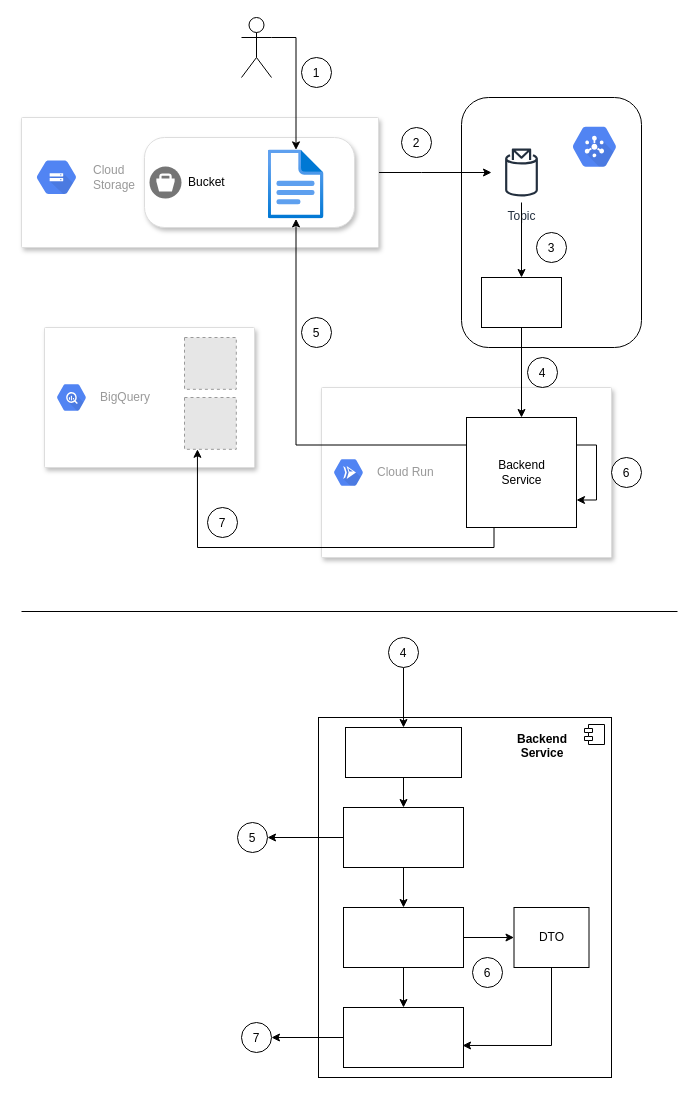
The diagram is 695 pixels wide and 1095 high, and some of its shapes have lost their labels. Grey dashed boxes stand in for pictures. Each missing label, with the centre of its shape:
Cloud Pub/Sub: (x=594, y=146)
DataExtractor: (x=403, y=837)
Loader: (x=403, y=1037)
REST POST endpoint: (x=403, y=752)
Subscription: (x=521, y=302)
Transformer (Avro Parser): (x=403, y=937)
User: (x=256, y=47)
